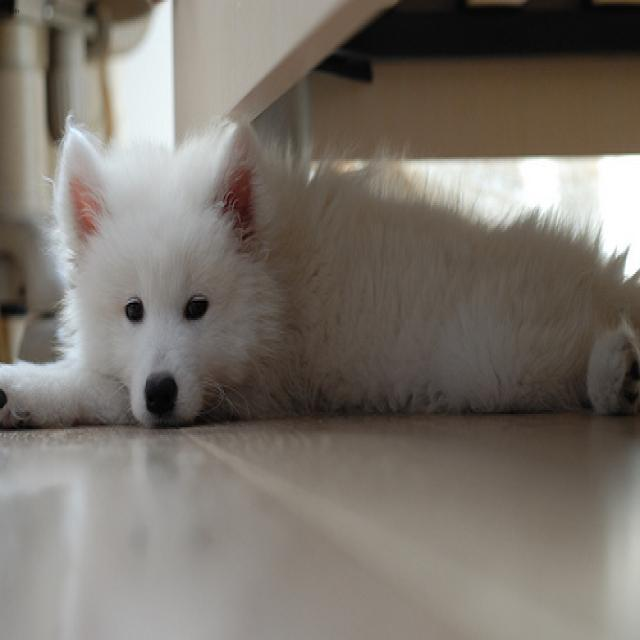dog-samoyed: (1, 107, 637, 443)
